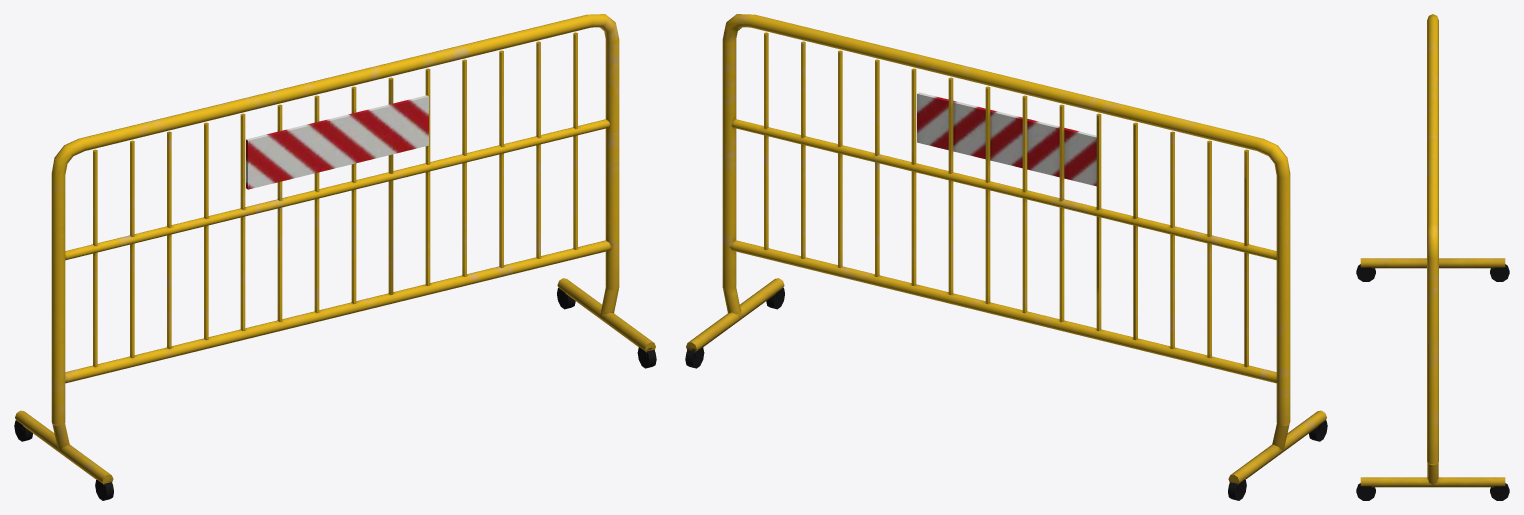
File: folding_barricade.glb
The picture shows the model from 3 angles, left to right: view 1: azimuth 30°, elevation 25°; view 2: azimuth 150°, elevation 25°; view 3: azimuth 270°, elevation 25°; orthographic projection. The views are drawn at different scales.
Visible parts, largest first — view 1: folding_barricade; view 2: folding_barricade; view 3: folding_barricade.
Part boxes in pixels (bbox=[...]): folding_barricade: bbox=[14, 14, 656, 500]; folding_barricade: bbox=[685, 14, 1327, 500]; folding_barricade: bbox=[1356, 14, 1509, 500].
Size of the model in its own units: 1.94 by 1.07 by 0.55.
Materials: 1 (1 with a texture image).
